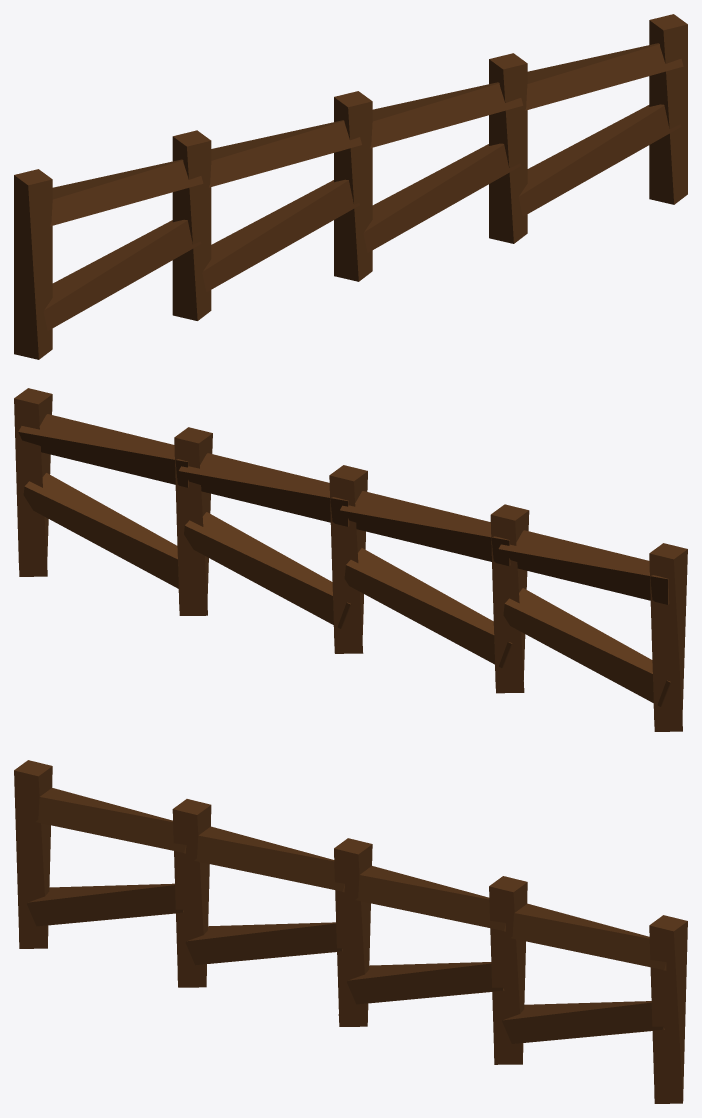
File: fence.glb
3 renders of one model, top to bottom at view 1: azimuth 30°, elevation 25°; view 2: azimuth 150°, elevation 25°; view 3: azimuth 330°, elevation 25°, orthographic.
Visible parts, largest first — view 1: Fence; view 2: Fence; view 3: Fence.
Boxes of the visible parts, x1,y1,x2,y2 form: Fence: (14,14,687,359); Fence: (14,388,687,731); Fence: (14,760,687,1103).
Size of the model in its own units: 12.63 by 3.15 by 0.6368.
